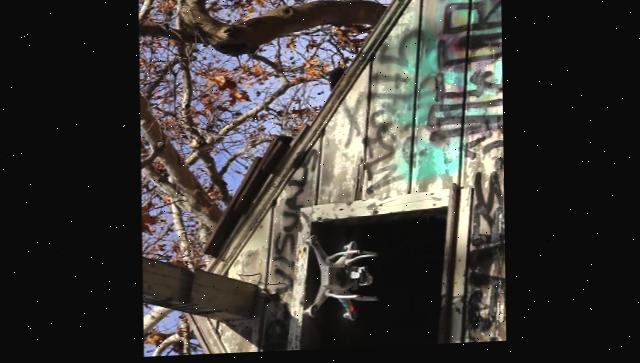drone: (299, 232, 380, 325)
